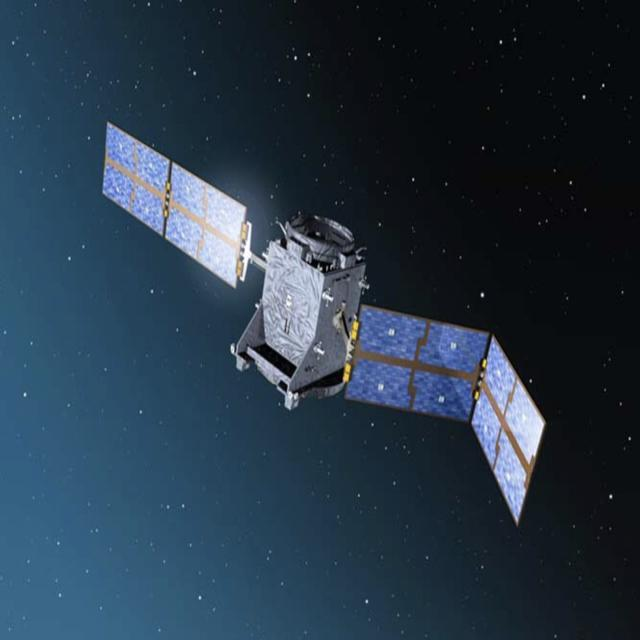medium_debris: (97, 96, 556, 539)
